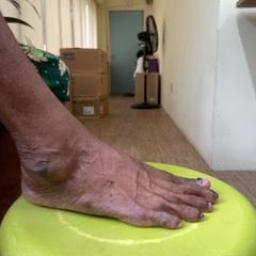Lateral View -Right Foot-: (2, 94, 233, 240)
